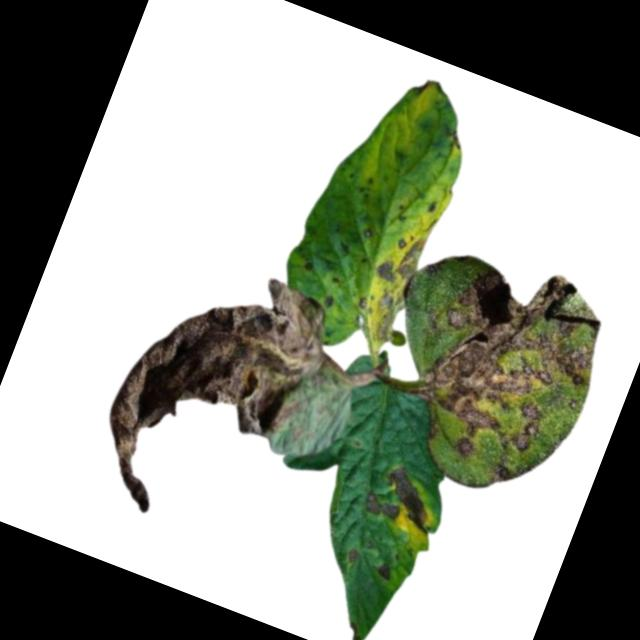Early_blight: (76, 239, 350, 558), (391, 235, 626, 493), (352, 219, 436, 356), (372, 464, 443, 534), (356, 488, 403, 528), (409, 74, 451, 108), (340, 544, 363, 570), (374, 560, 395, 583)
